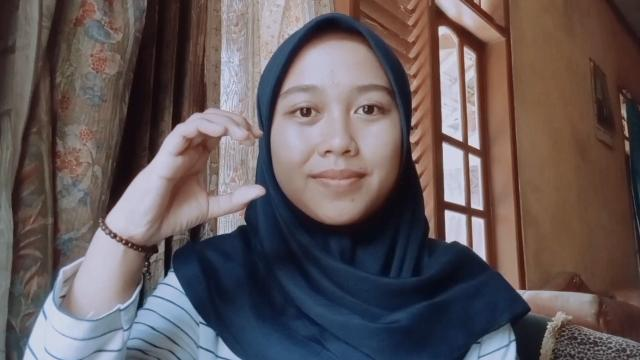C: (126, 108, 268, 241)
